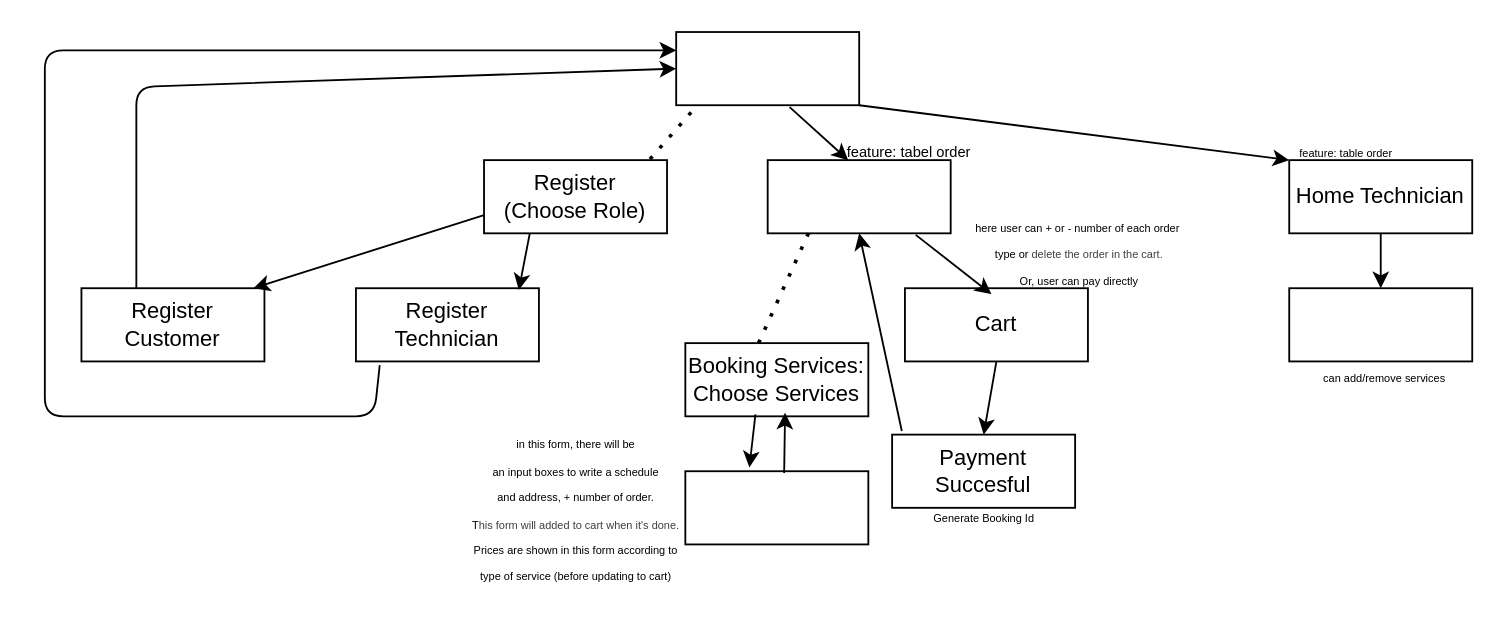
The diagram is 1504 pixels wide and 631 high, and some of its shapes have lost their labels. The shapes that lost their labels are listed below. From the top down, each one's centre as x and y in pixels, then its label:
At (766,67): "Welcome Page (Login)".
At (858,195): "Home Customer".
At (1379,323): "Your Services".
At (776,506): "Form for Booking Services".
